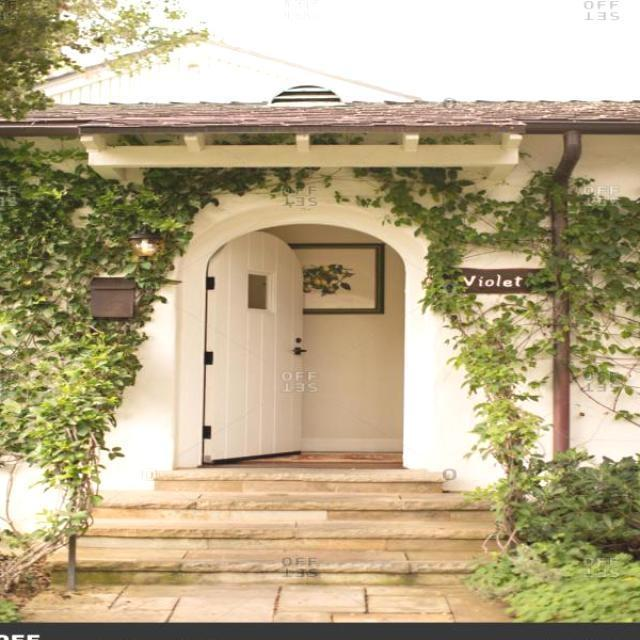door: (201, 230, 304, 463)
